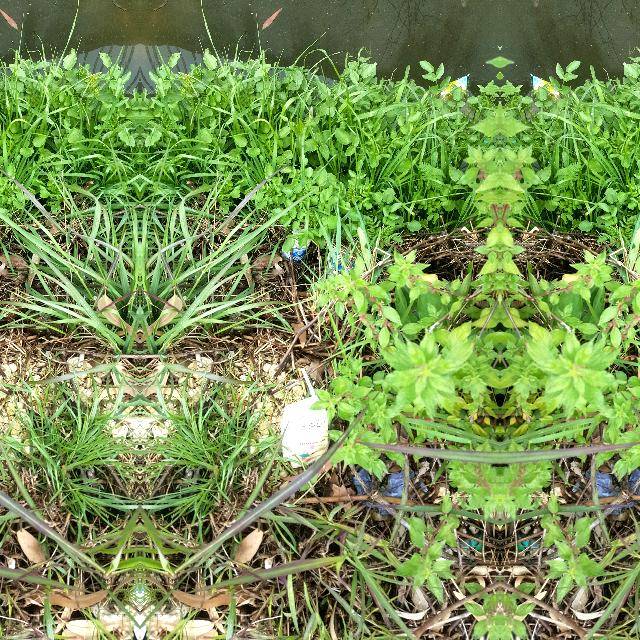Cardboard: (270, 361, 352, 492)
Plastic: (350, 452, 432, 528), (568, 452, 640, 527)
